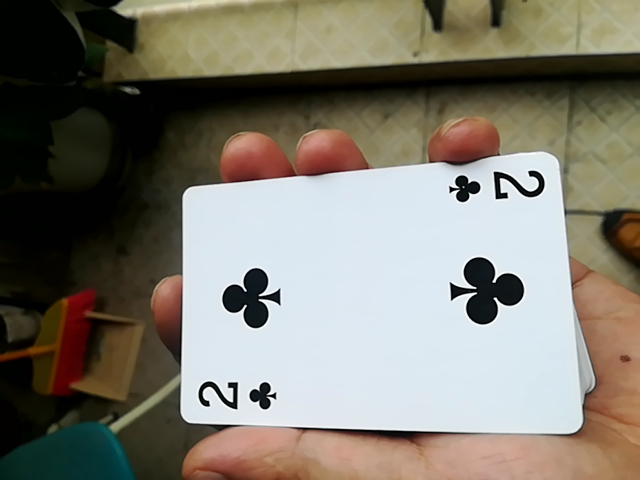mh 2: (172, 150, 572, 442)
